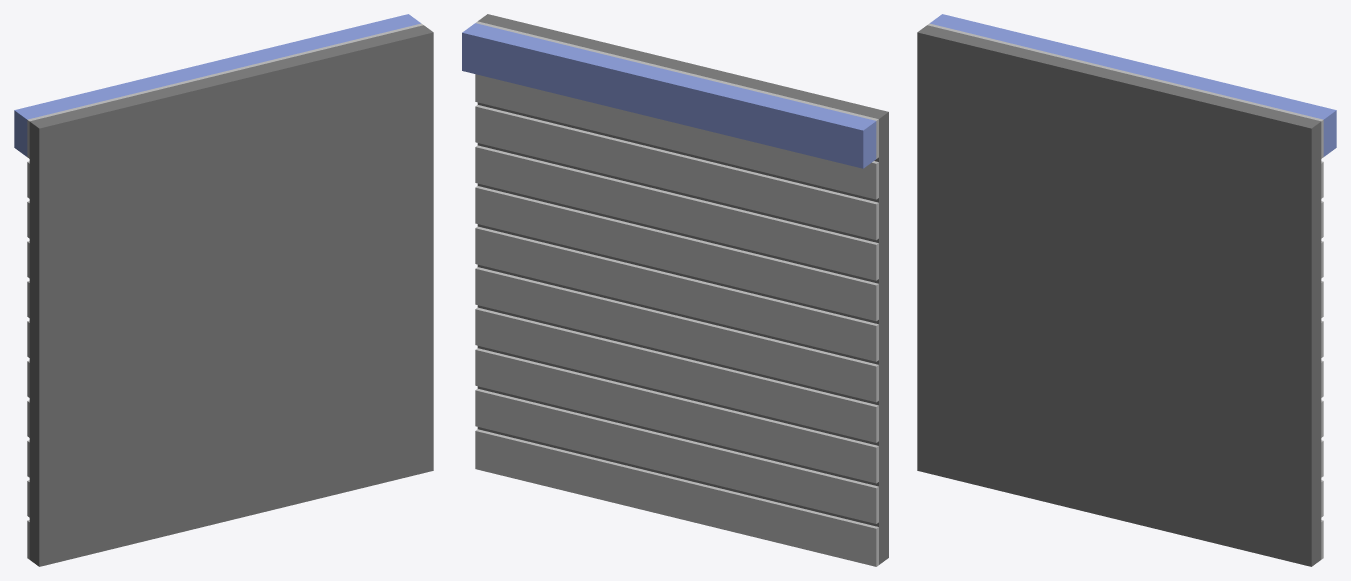
Rendered from toyFactoryvrata.fbx.
The picture shows the model from 3 angles, left to right: view 1: azimuth 30°, elevation 25°; view 2: azimuth 150°, elevation 25°; view 3: azimuth 330°, elevation 25°; orthographic projection.
Parts seen in each view (by area): view 1: Cube.014; view 2: Cube.014; view 3: Cube.014.
Part boxes in pixels (bbox=[...]): Cube.014: bbox=[14, 14, 433, 566]; Cube.014: bbox=[462, 14, 888, 566]; Cube.014: bbox=[917, 14, 1336, 566].
Size of the model in its own units: 1809 by 1922 by 200.
